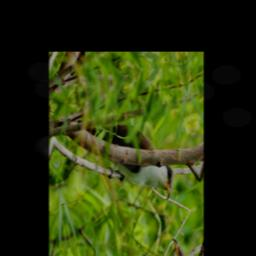Cuckoo: (75, 76, 178, 235)
